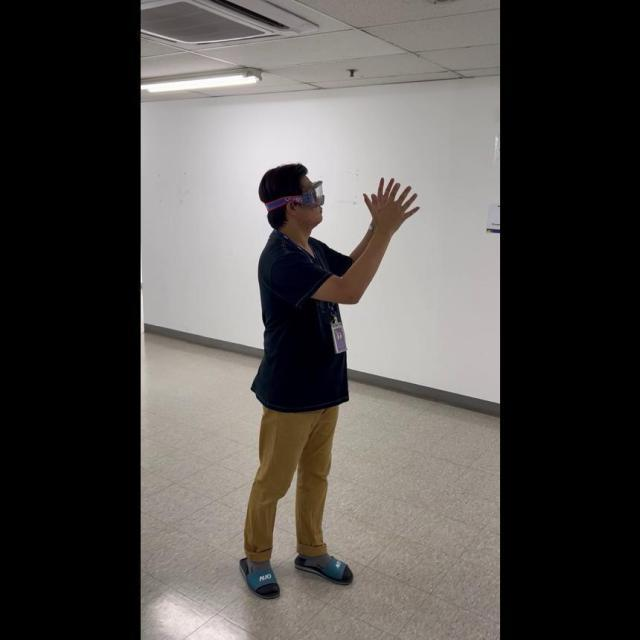bare_hand: (359, 173, 419, 228)
